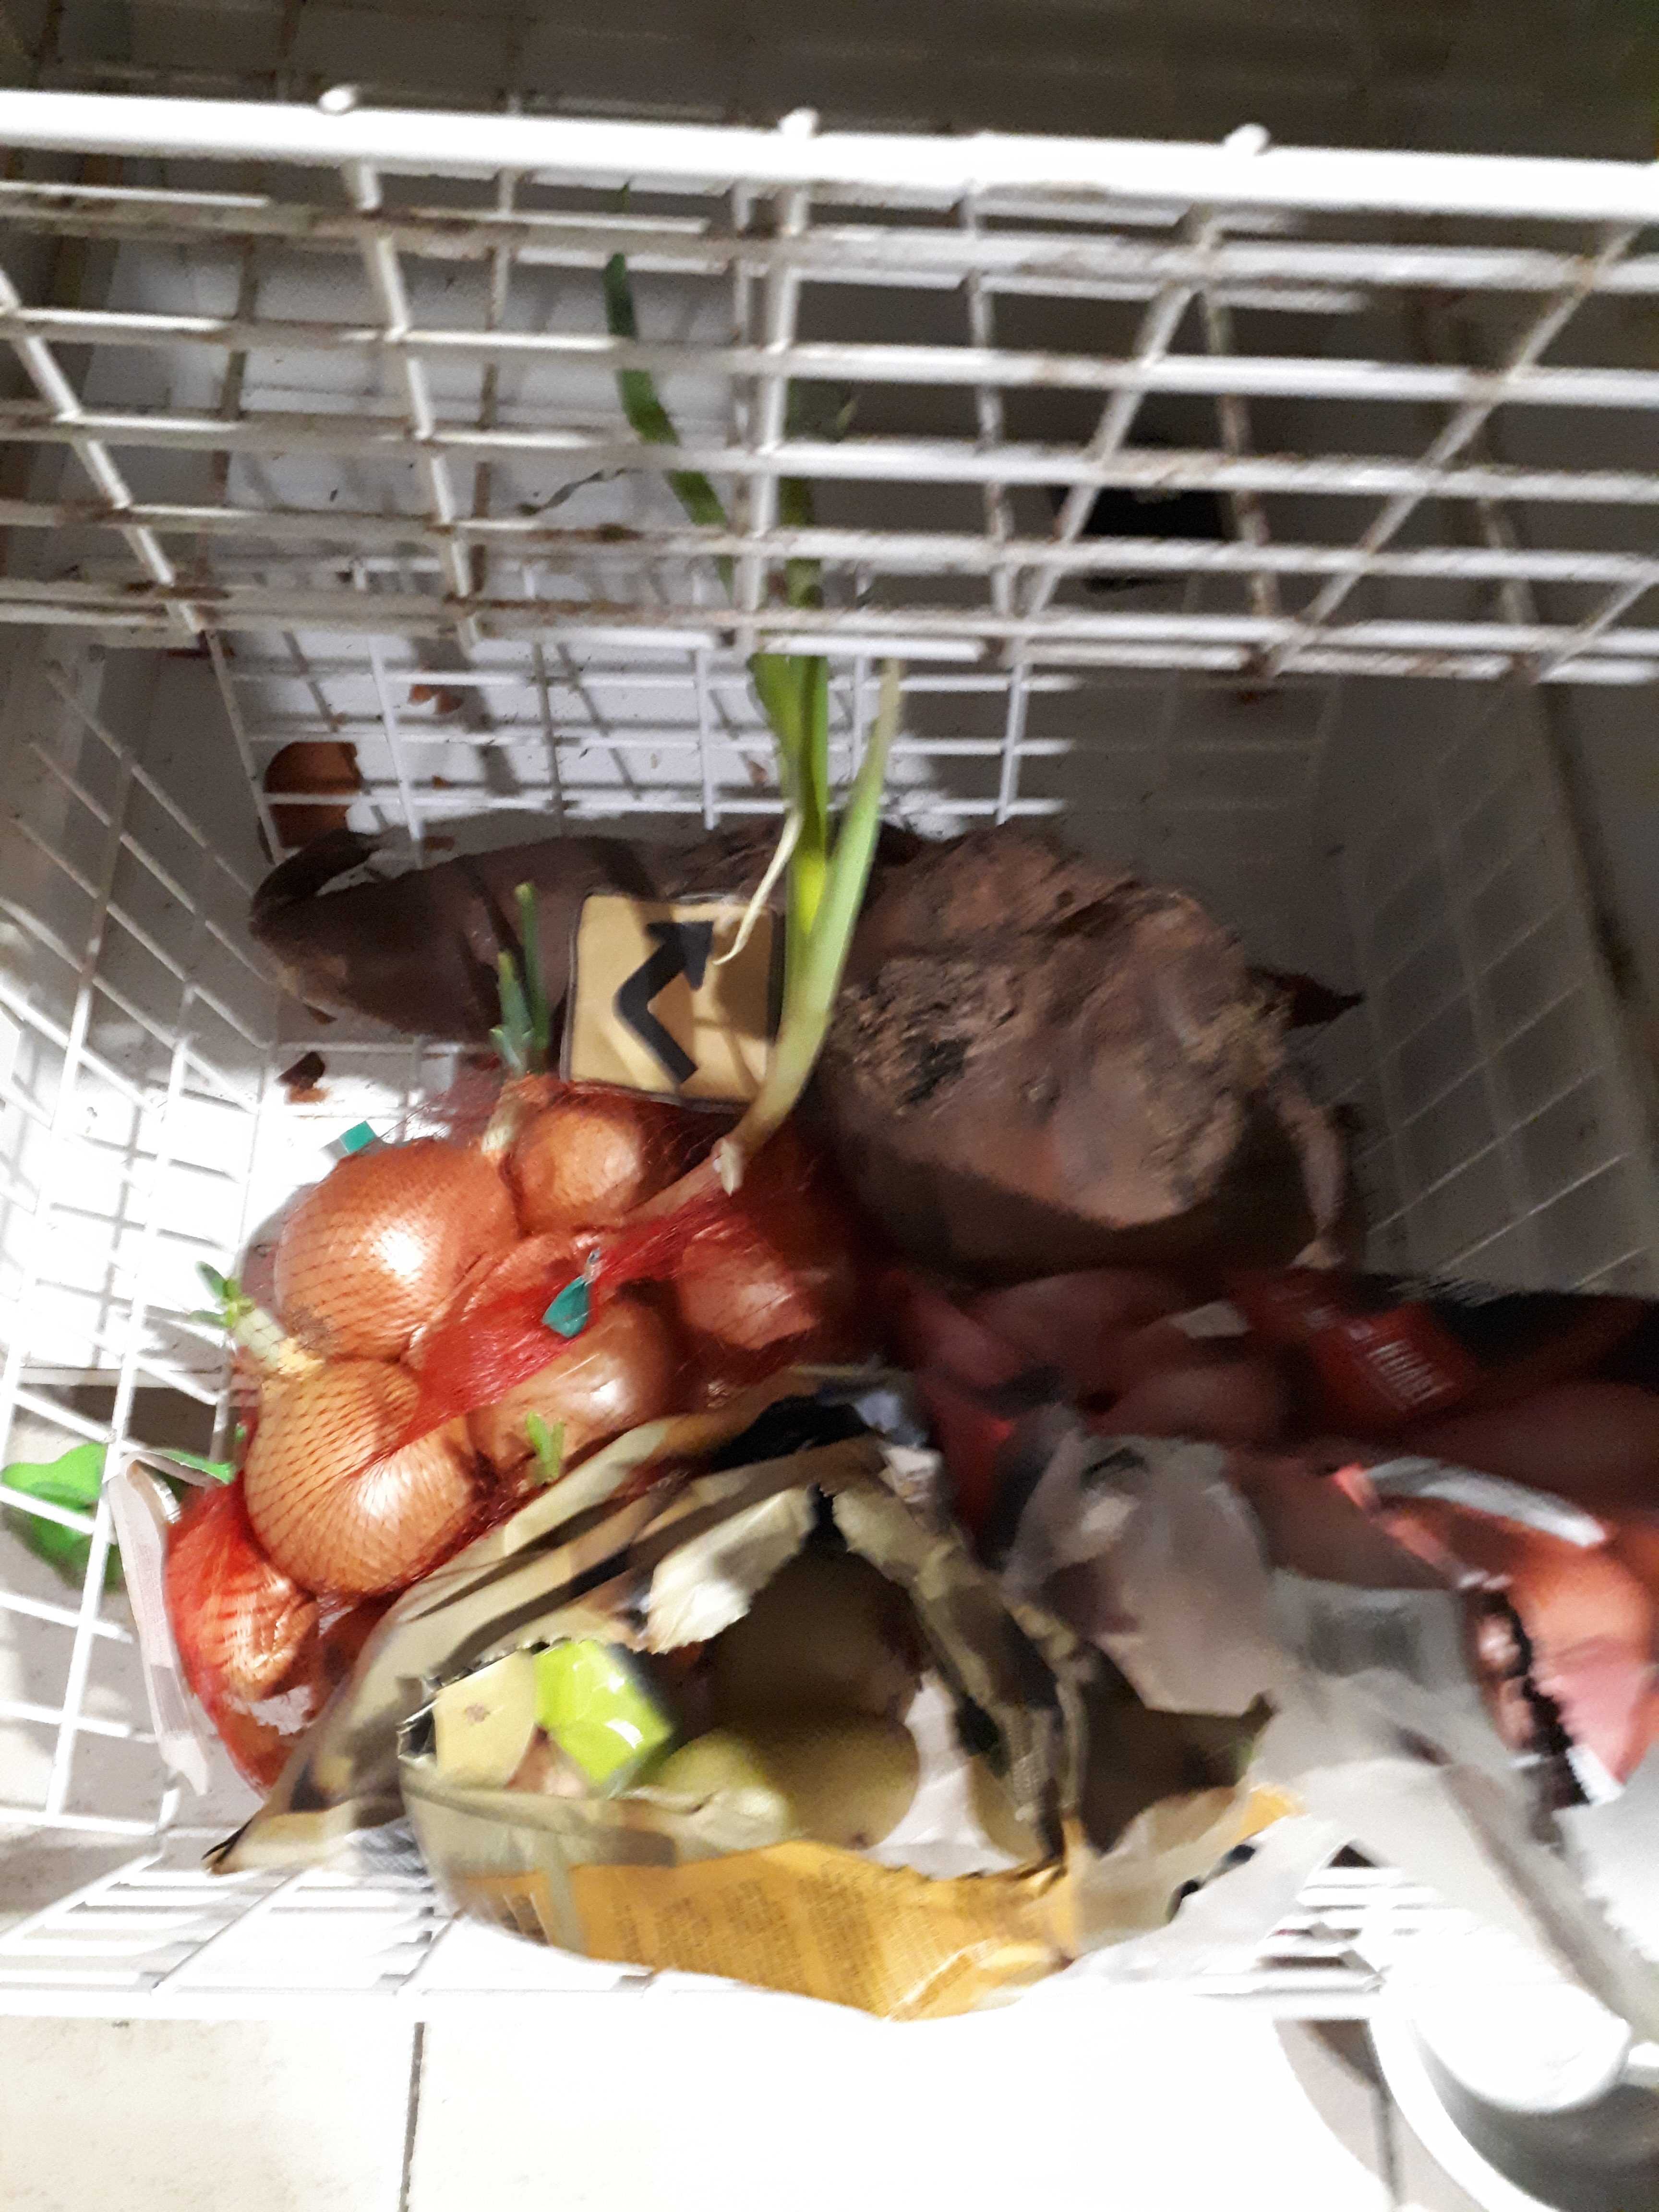right: (511, 876, 843, 1120), (594, 914, 772, 1076)
